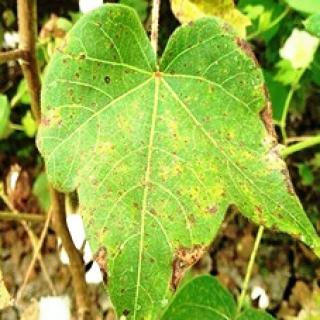blight: (38, 13, 308, 209)
